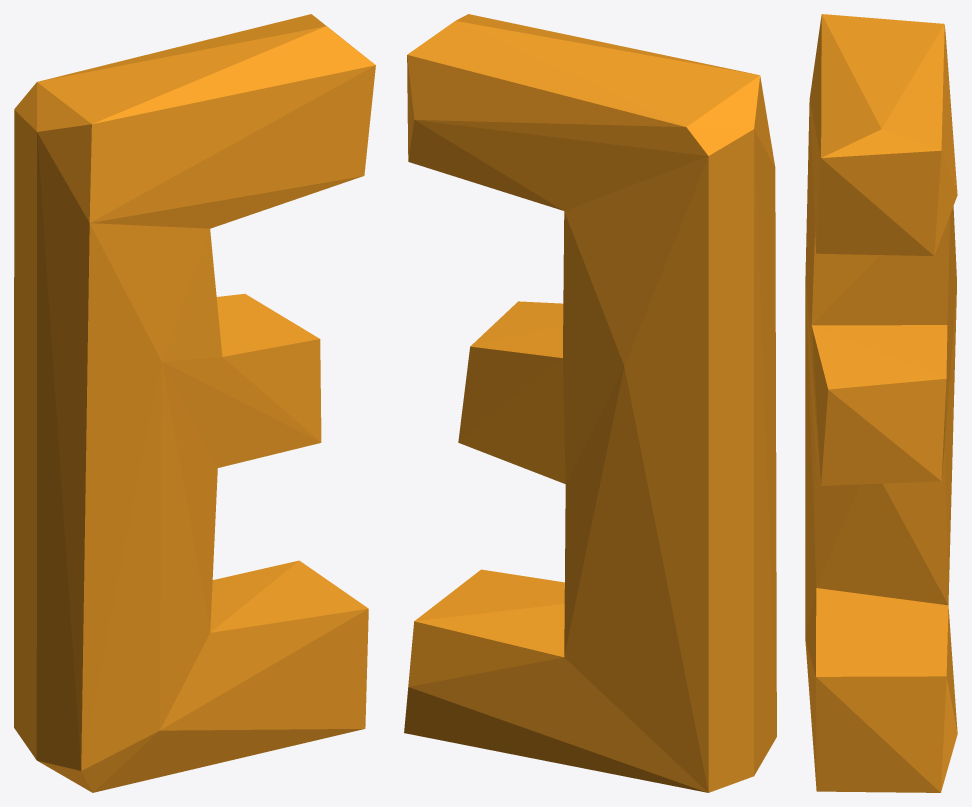
Rendered from SM_Icon_Letter_E_01.fbx.
The picture shows the model from 3 angles, left to right: view 1: azimuth 30°, elevation 25°; view 2: azimuth 150°, elevation 25°; view 3: azimuth 270°, elevation 25°; orthographic projection. The views are drawn at different scales.
Visible parts, largest first — view 1: SM_Icon_Letter_E_01; view 2: SM_Icon_Letter_E_01; view 3: SM_Icon_Letter_E_01.
Boxes of the visible parts, x1,y1,x2,y2 form: SM_Icon_Letter_E_01: [14, 14, 375, 792]; SM_Icon_Letter_E_01: [404, 14, 776, 792]; SM_Icon_Letter_E_01: [805, 14, 957, 792].
Bounding box in the file's own units: 25.88 × 54.36 × 11.38.
